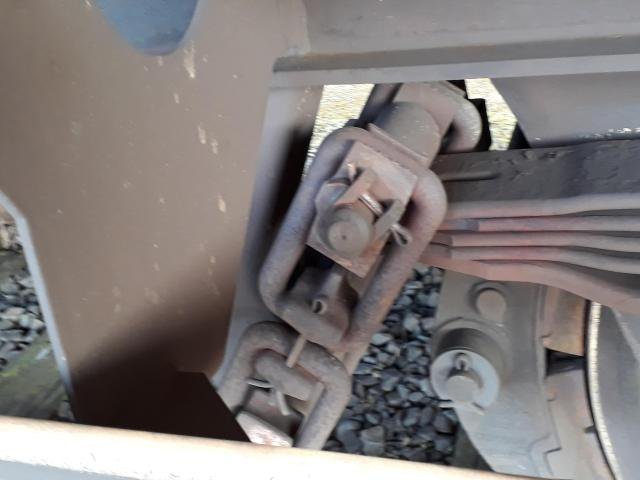blattfederww: (433, 154, 640, 302)
